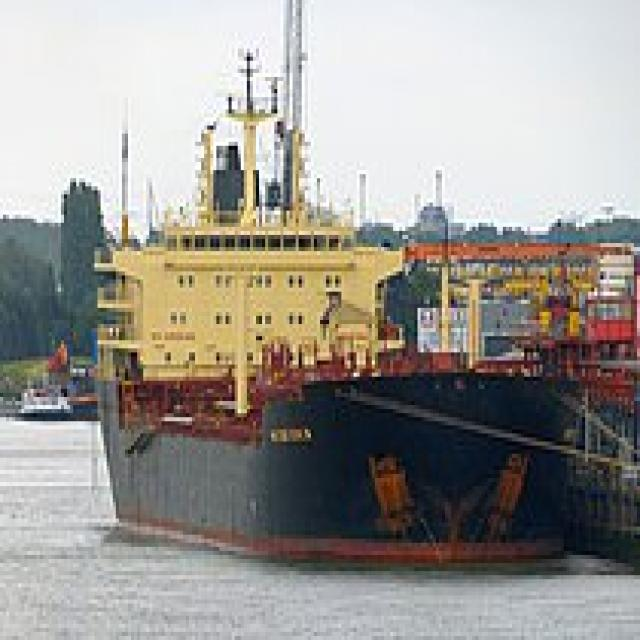Tanker: (88, 44, 579, 551)
